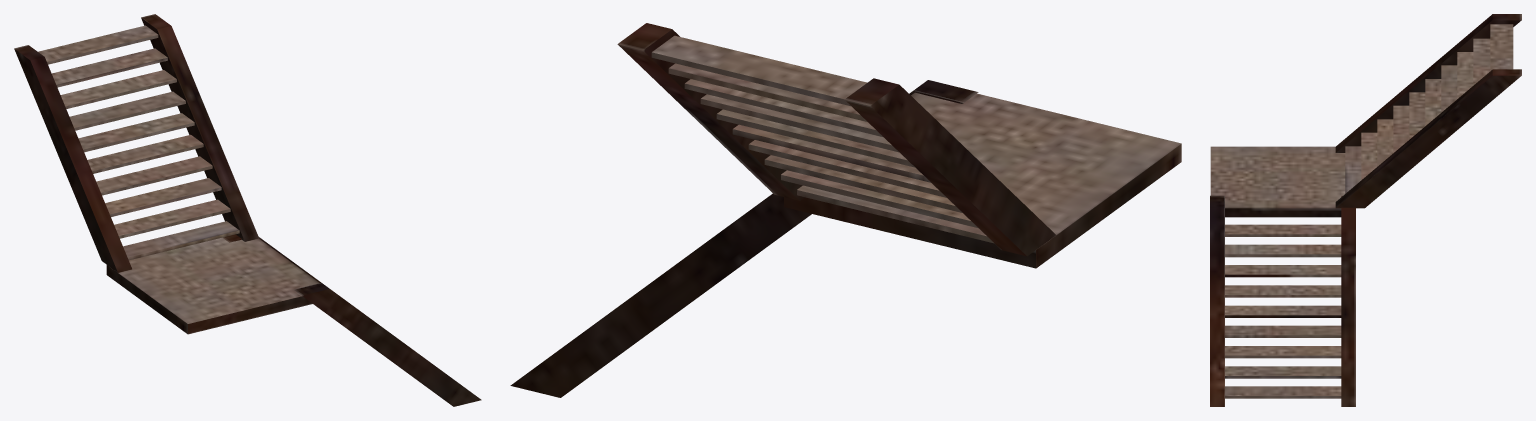
Rendered from metal_stairs_l_shape_textured.glb.
The picture shows the model from 3 angles, left to right: view 1: azimuth 30°, elevation 25°; view 2: azimuth 150°, elevation 25°; view 3: azimuth 270°, elevation 25°; orthographic projection. The views are drawn at different scales.
Visible parts, largest first — view 1: Cube.001; view 2: Cube.001; view 3: Cube.001.
Boxes of the visible parts, left/top/right/bottom form: Cube.001: left=14, top=14, right=481, bottom=406; Cube.001: left=510, top=23, right=1181, bottom=397; Cube.001: left=1210, top=14, right=1521, bottom=406.
Size of the model in its own units: 2.08 by 2.01 by 2.14.
1 material, 1 textured.
